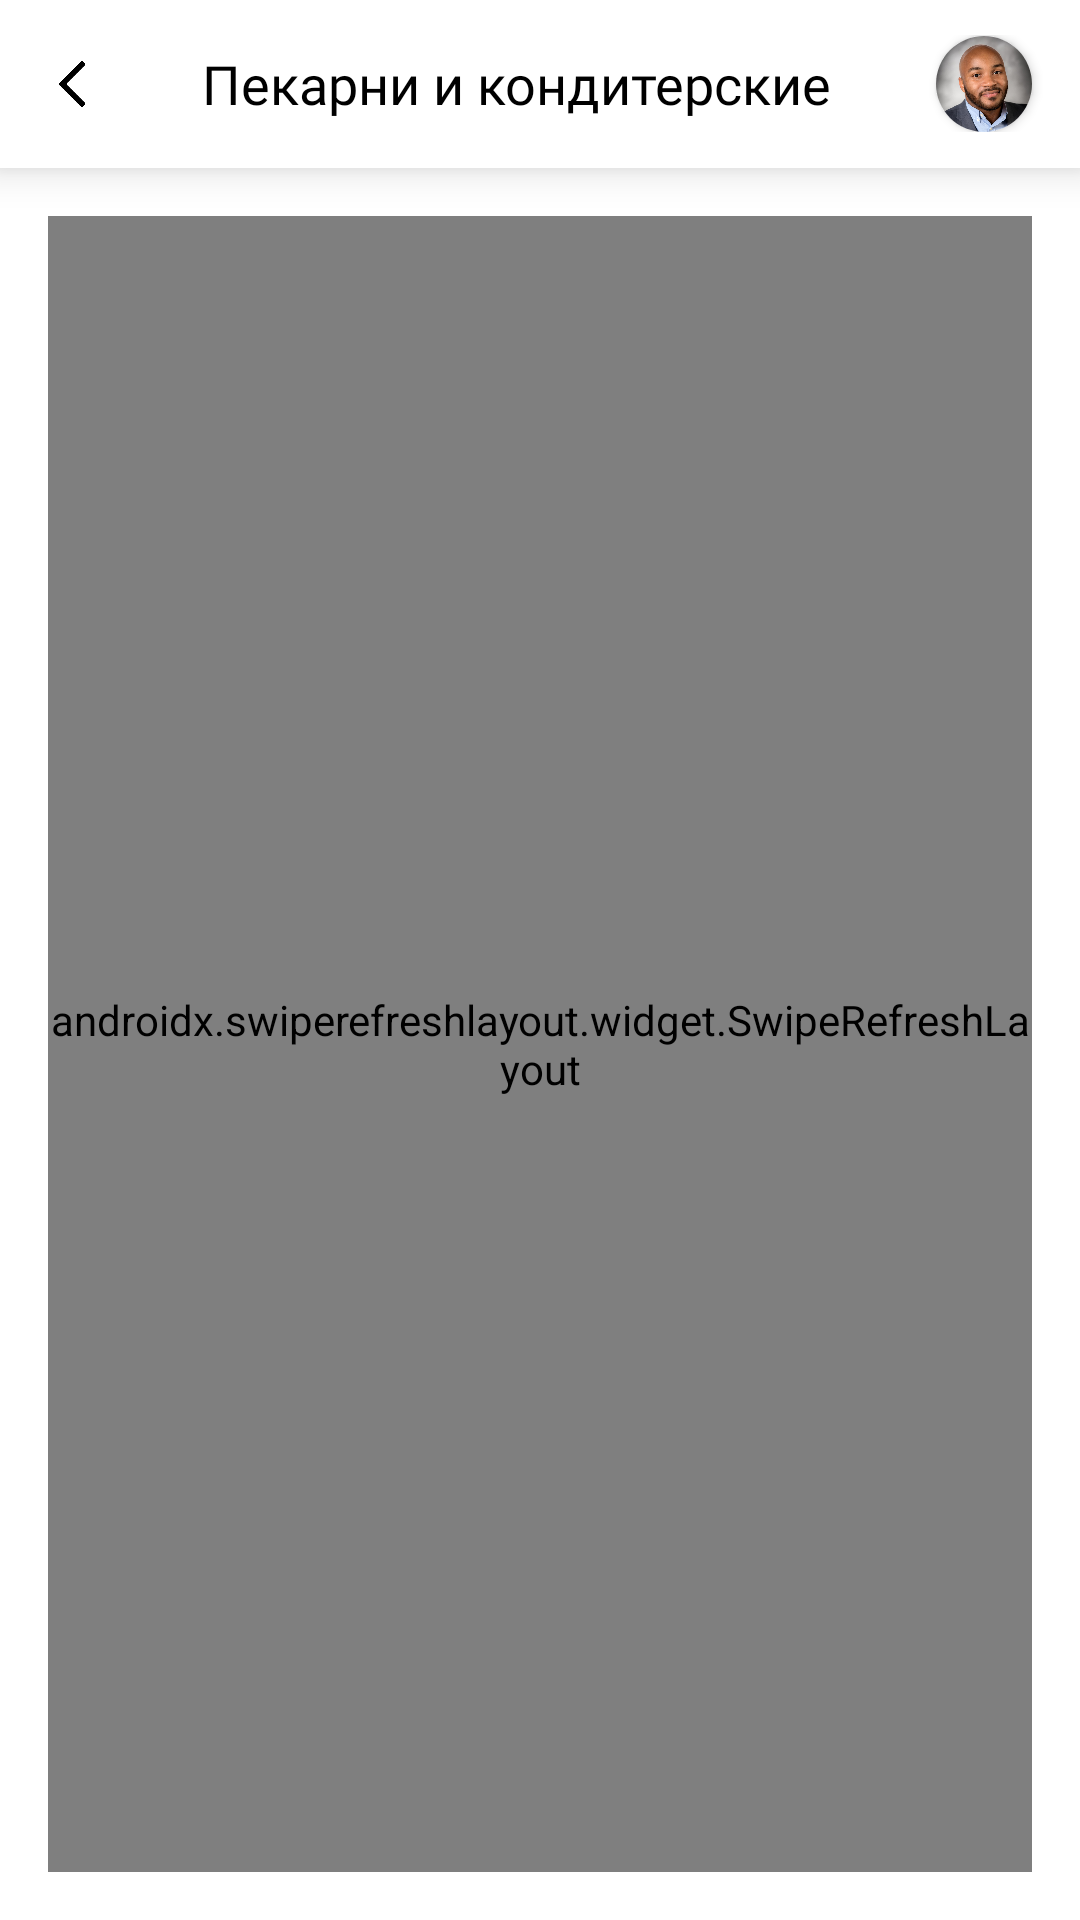

Named icons in this screenshot (1080w x 1920h) and their centers, (x,y):
back: (72,84)
profile photo: (984,84)
